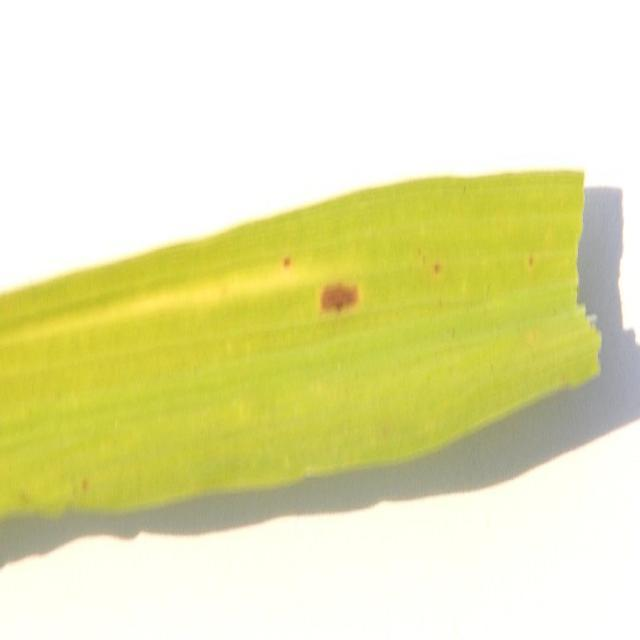Rice_Brownspot: (306, 264, 370, 314)
